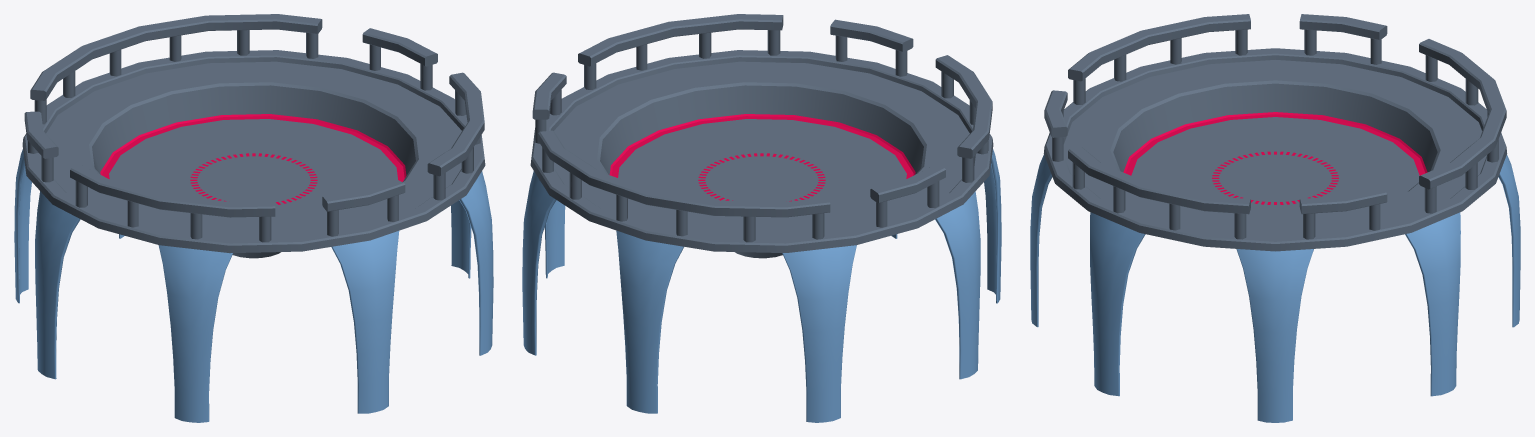
File: stage_mesh.fbx
3 renders of one model, left to right at view 1: azimuth 30°, elevation 25°; view 2: azimuth 150°, elevation 25°; view 3: azimuth 270°, elevation 25°, orthographic.
Visible parts, largest first — view 1: stage, water, floor, timeRing, timerClock; view 2: stage, water, floor, timeRing, timerClock; view 3: stage, water, floor, timeRing, timerClock.
Part boxes in pixels (x1,y1,x2,y2): stage: (22,14,485,258); water: (14,149,493,422); floor: (109,119,397,221); timeRing: (100,114,406,181); timerClock: (190,153,317,204); stage: (530,14,993,258); water: (522,149,1001,422); floor: (618,119,906,221); timeRing: (609,114,915,178); timerClock: (698,153,825,201); stage: (1043,14,1507,251); water: (1030,155,1520,422); floor: (1131,117,1419,219); timeRing: (1123,112,1427,175); timerClock: (1212,151,1338,204).
Size of the model in its own units: 4402 by 2087 by 4402.
